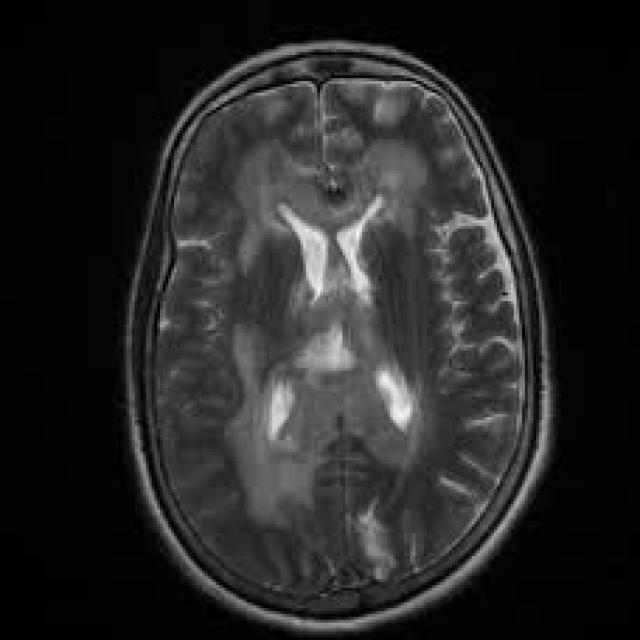notumor: (121, 43, 559, 631)
